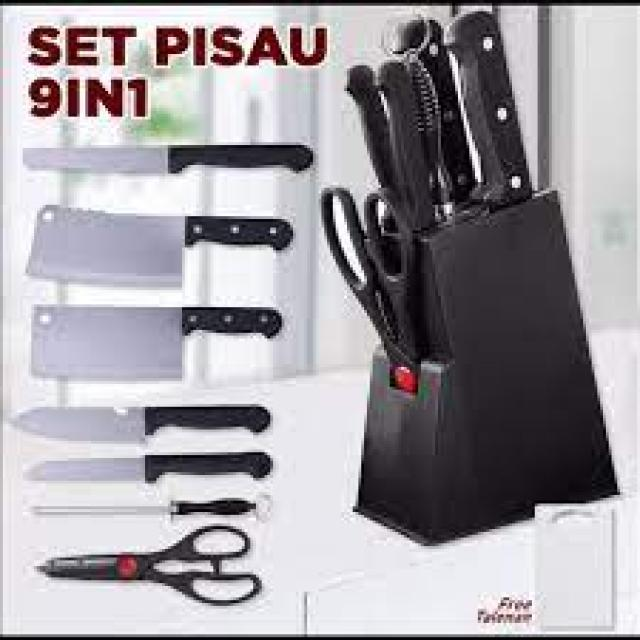Knife: (25, 138, 296, 526)
